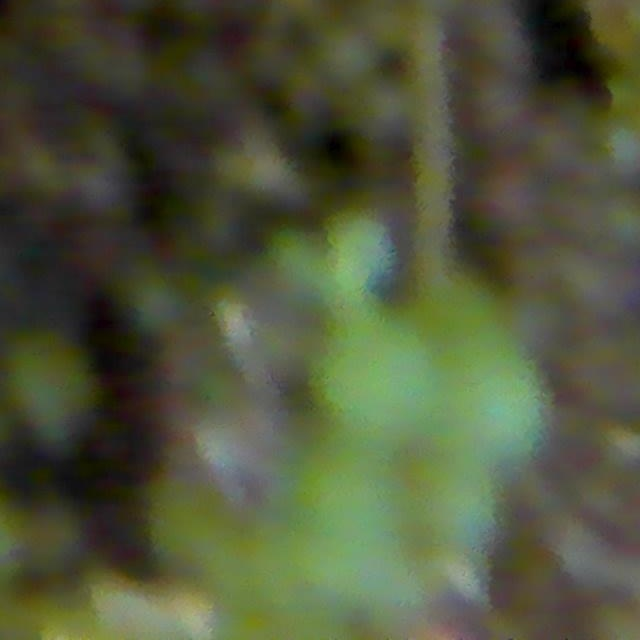SeaGrape: (451, 356, 552, 463), (1, 335, 100, 440), (123, 268, 191, 336), (317, 27, 379, 88)
